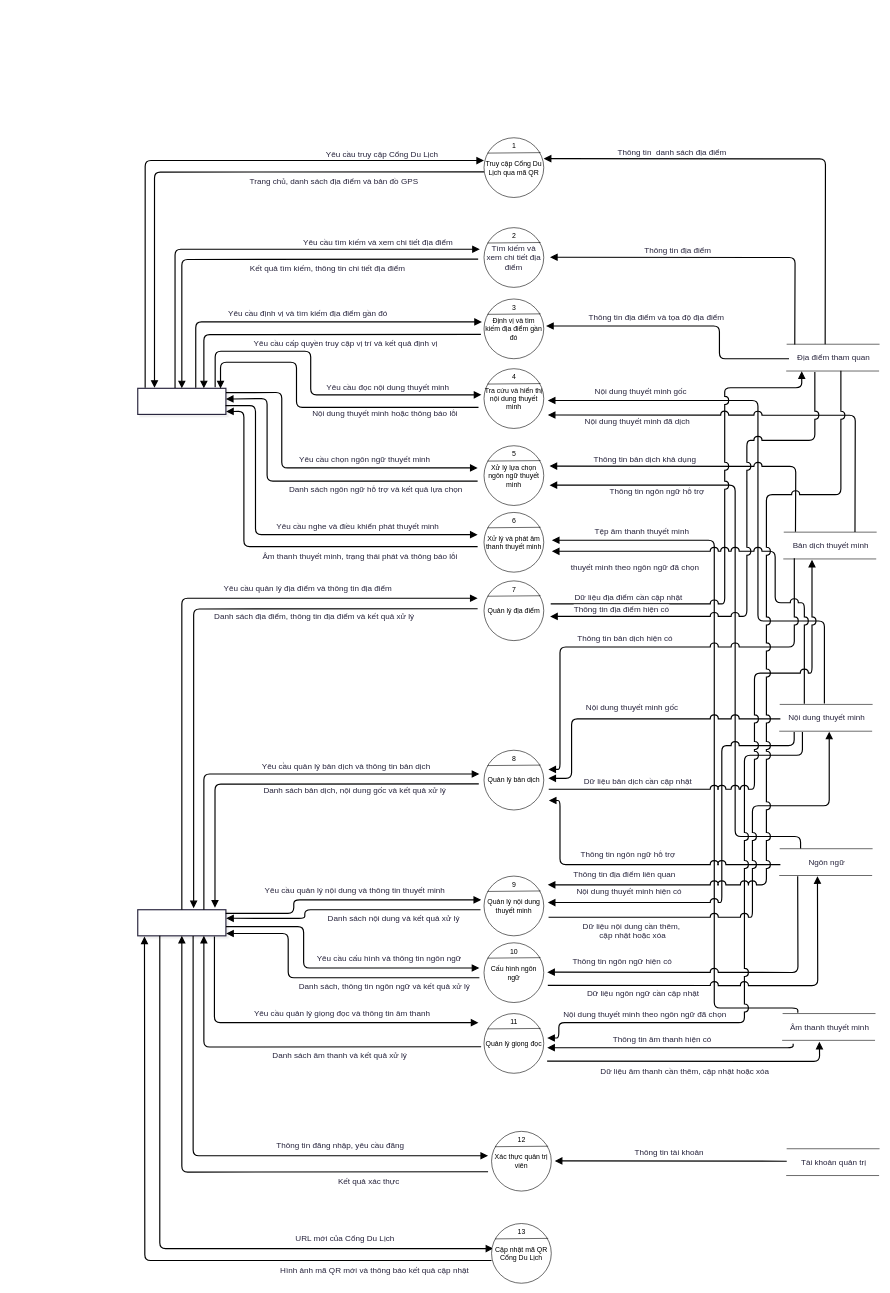
The diagram is 890 pixels wide and 1293 high, and some of its shapes have lost their labels. Here are the shapes that lost their labels. From the top down, the centre of each, then its label:
At (183,402): "Khách tham quan".
At (183,923): "Quản trị viên".
